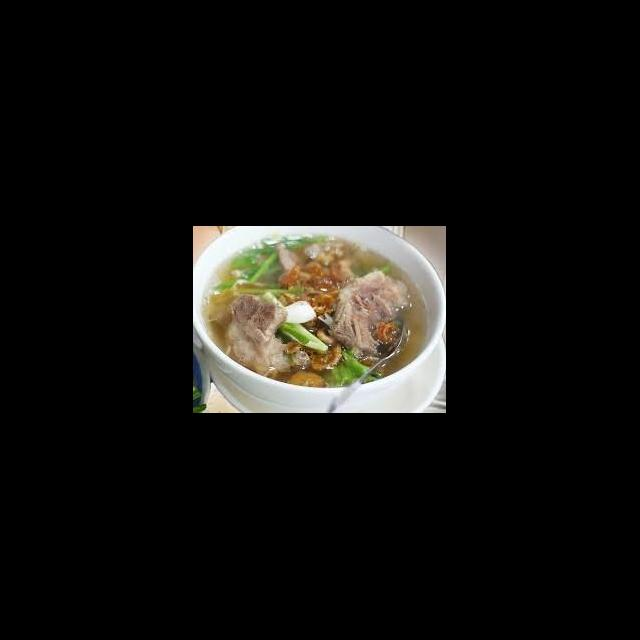thit heo: (328, 266, 417, 362), (222, 290, 302, 380)
